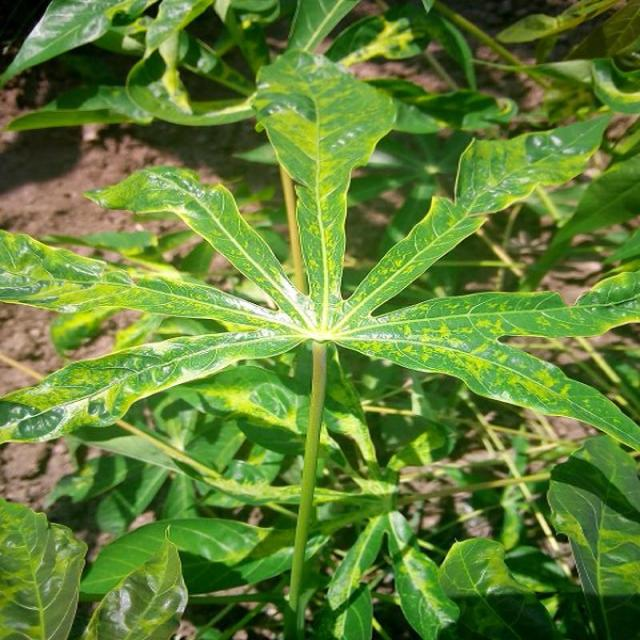cassava leaf: (2, 33, 639, 636), (252, 45, 398, 321)
